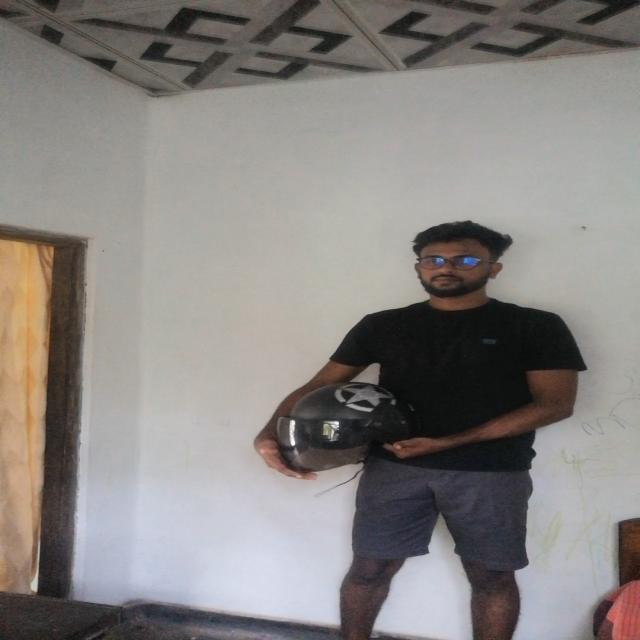Person: (268, 199, 590, 635)
